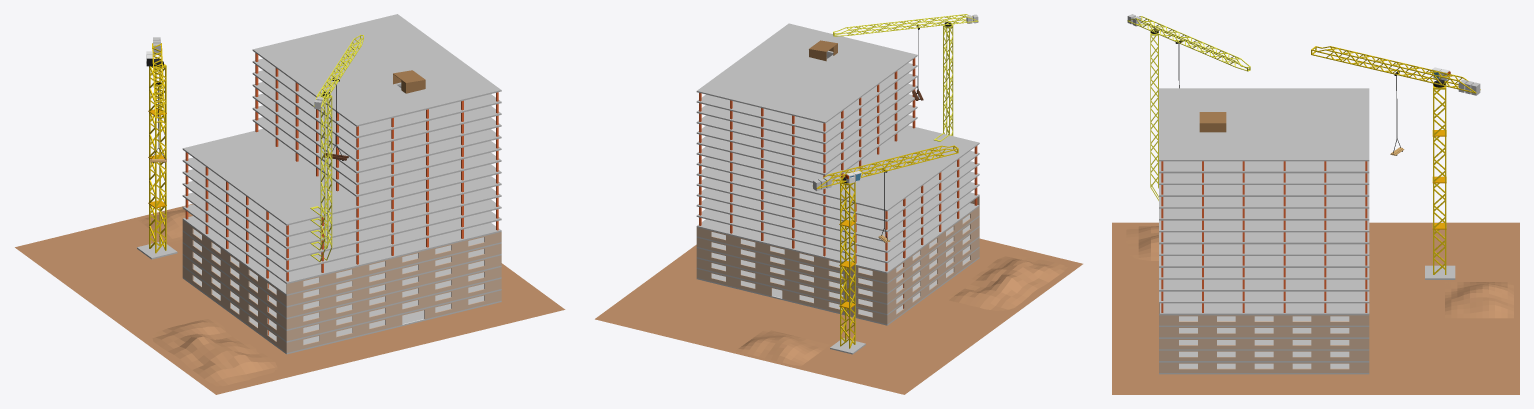
File: under_construction.gltf
3 renders of one model, left to right at view 1: azimuth 30°, elevation 25°; view 2: azimuth 150°, elevation 25°; view 3: azimuth 270°, elevation 25°, orthographic. The views are drawn at different scales.
Parts seen in each view (by area): view 1: BuildingFloor.001, BuildingSmallFloor.001, Ground, Fassade, Crane Ground, Crane Mounted, BuildingBase; view 2: Ground, BuildingFloor.001, BuildingSmallFloor.001, Fassade, Crane Ground, Crane Mounted, BuildingBase; view 3: Ground, BuildingSmallFloor.001, BuildingFloor.001, Fassade, Crane Ground, Crane Mounted, BuildingBase.
Boxes of the visible parts, x1,y1,x2,y2 form: BuildingFloor.001: (182, 129, 501, 342); BuildingSmallFloor.001: (252, 14, 501, 205); Ground: (15, 204, 565, 394); Fassade: (182, 220, 501, 352); Crane Ground: (137, 37, 177, 259); Crane Mounted: (310, 34, 363, 262); BuildingBase: (182, 276, 501, 354); Ground: (595, 238, 1082, 394); BuildingFloor.001: (696, 125, 979, 315); BuildingSmallFloor.001: (696, 23, 917, 193); Fassade: (696, 196, 979, 324); Crane Ground: (812, 145, 958, 354); Crane Mounted: (833, 14, 978, 141); BuildingBase: (696, 256, 979, 325); Ground: (1112, 222, 1519, 394); BuildingSmallFloor.001: (1159, 88, 1369, 241); BuildingFloor.001: (1159, 232, 1369, 362); Fassade: (1159, 303, 1369, 372); Crane Ground: (1311, 46, 1480, 279); Crane Mounted: (1127, 14, 1250, 200); BuildingBase: (1159, 363, 1369, 374).
Bounding box in the file's own units: 100 × 71.33 × 100.
Materials: 2 (2 with a texture image).
